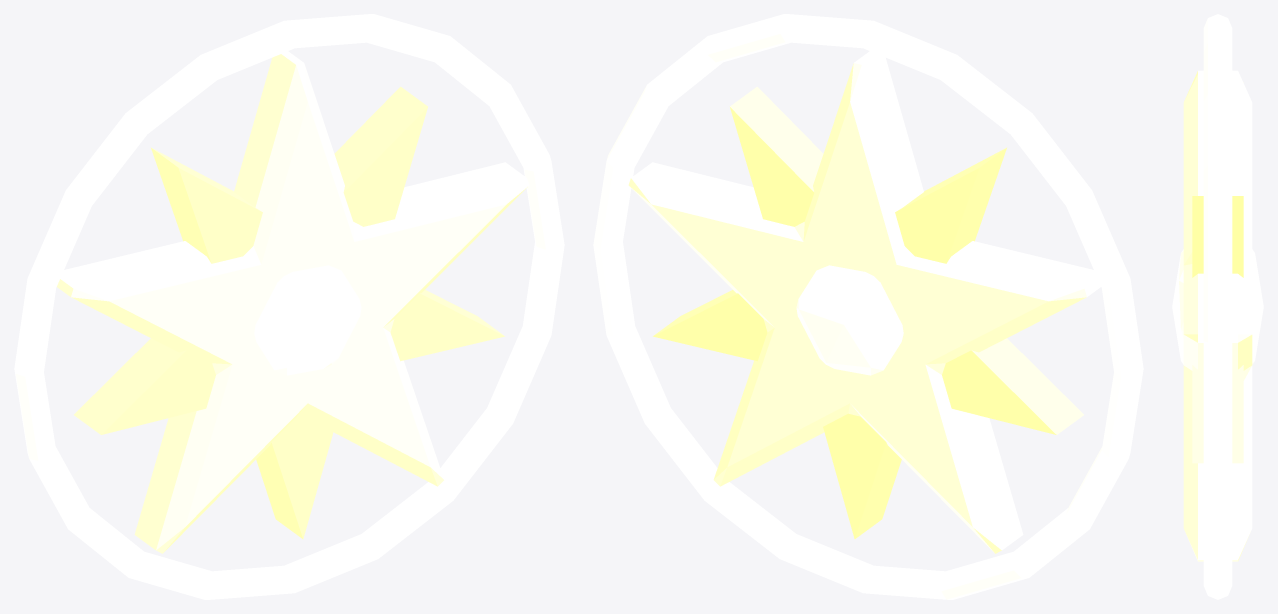
Rendered from xmas_star.glb.
3 renders of one model, left to right at view 1: azimuth 30°, elevation 25°; view 2: azimuth 150°, elevation 25°; view 3: azimuth 270°, elevation 25°, orthographic. The views are drawn at different scales.
Parts seen in each view (by area): view 1: ChristmasStar; view 2: ChristmasStar; view 3: ChristmasStar.
Boxes of the visible parts, x1,y1,x2,y2 form: ChristmasStar: (14,14,564,599); ChristmasStar: (593,14,1143,599); ChristmasStar: (1172,14,1263,599).
Size of the model in its own units: 2.06 by 2.06 by 0.32.
